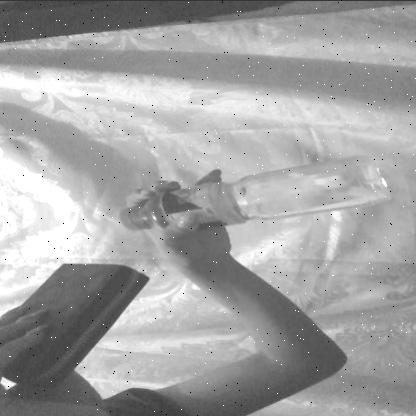Plastic Bottle: (108, 139, 406, 241)
